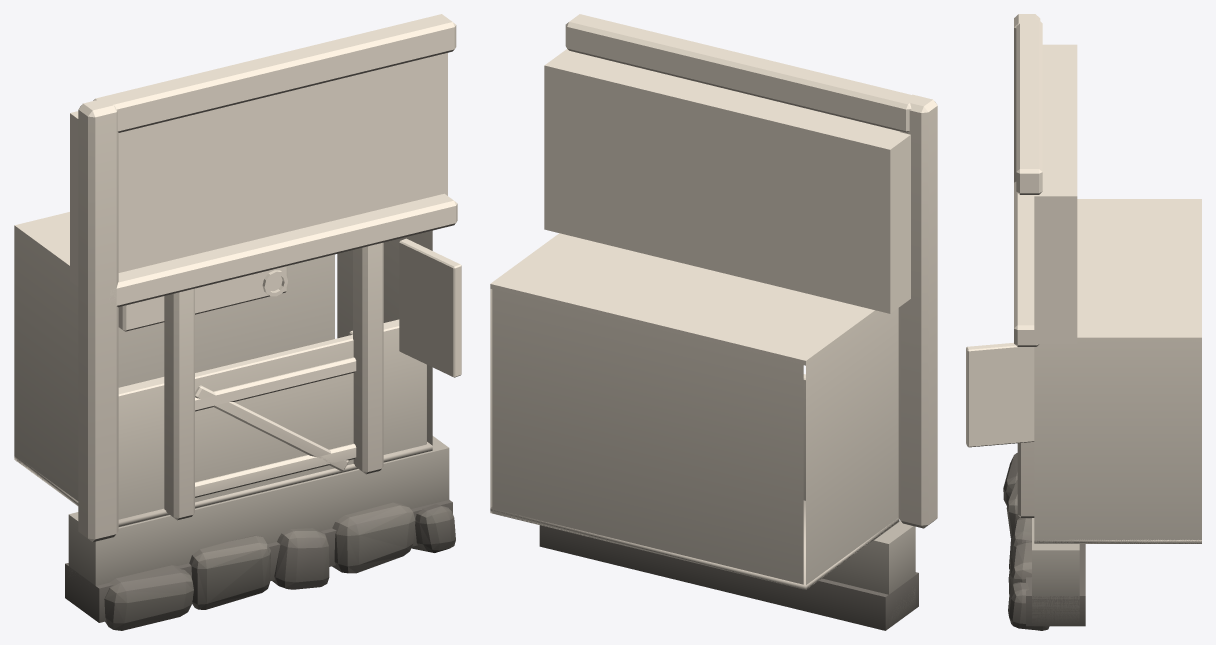
Rendered from SM_VK_Wall_Stall.fbx.
3 renders of one model, left to right at view 1: azimuth 30°, elevation 25°; view 2: azimuth 150°, elevation 25°; view 3: azimuth 270°, elevation 25°, orthographic. The views are drawn at different scales.
Visible parts, largest first — view 1: SM_VK_Wall_Stall.001; view 2: SM_VK_Wall_Stall.001; view 3: SM_VK_Wall_Stall.001.
Boxes of the visible parts, bbox=[...] form: SM_VK_Wall_Stall.001: bbox=[14, 14, 461, 630]; SM_VK_Wall_Stall.001: bbox=[490, 14, 937, 630]; SM_VK_Wall_Stall.001: bbox=[966, 14, 1201, 630].
Bounding box in the file's own units: 3.13 × 4.31 × 1.97.
